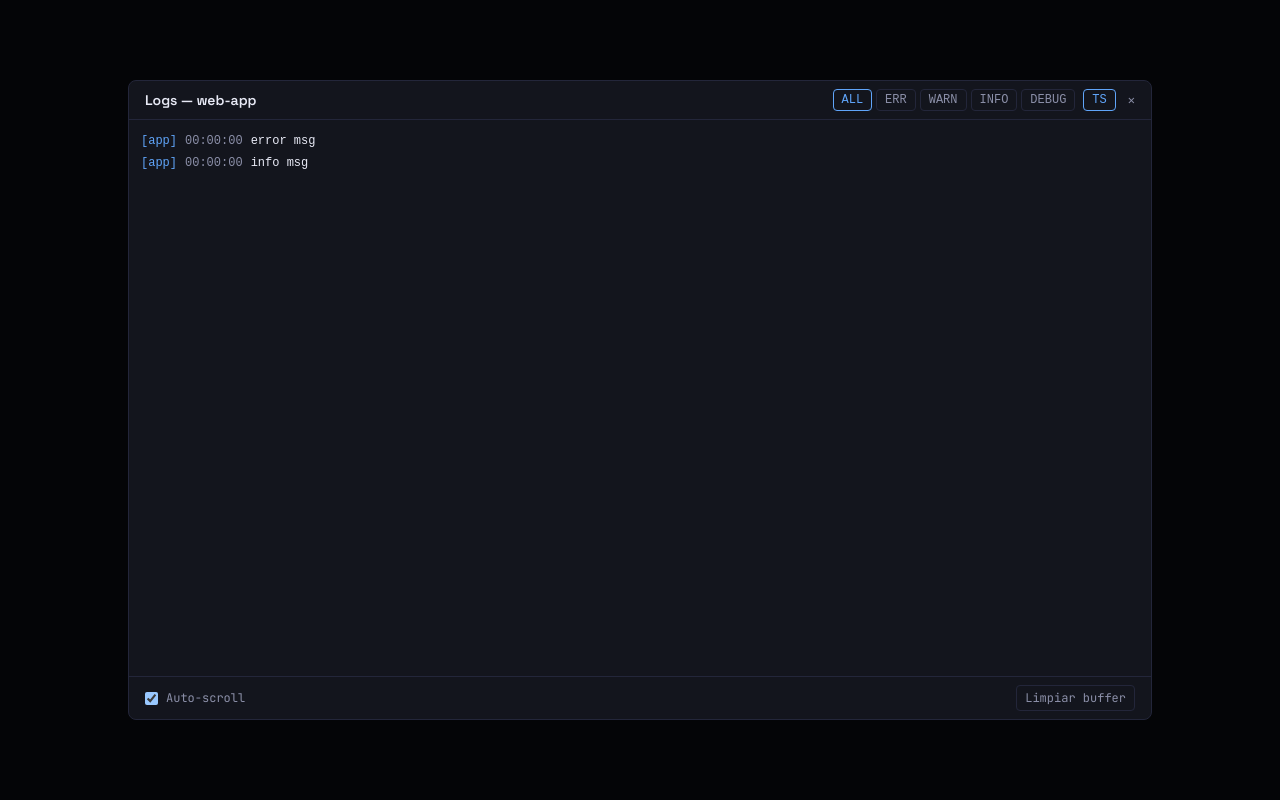
Test case: LogsModal — toggle timestamps › filtra por nivel las líneas JSON que Docker prefija con su marca de tiempo
Click the button with aria-label "Filtro ERR".
click(896, 100)  # box [876,89,916,111]
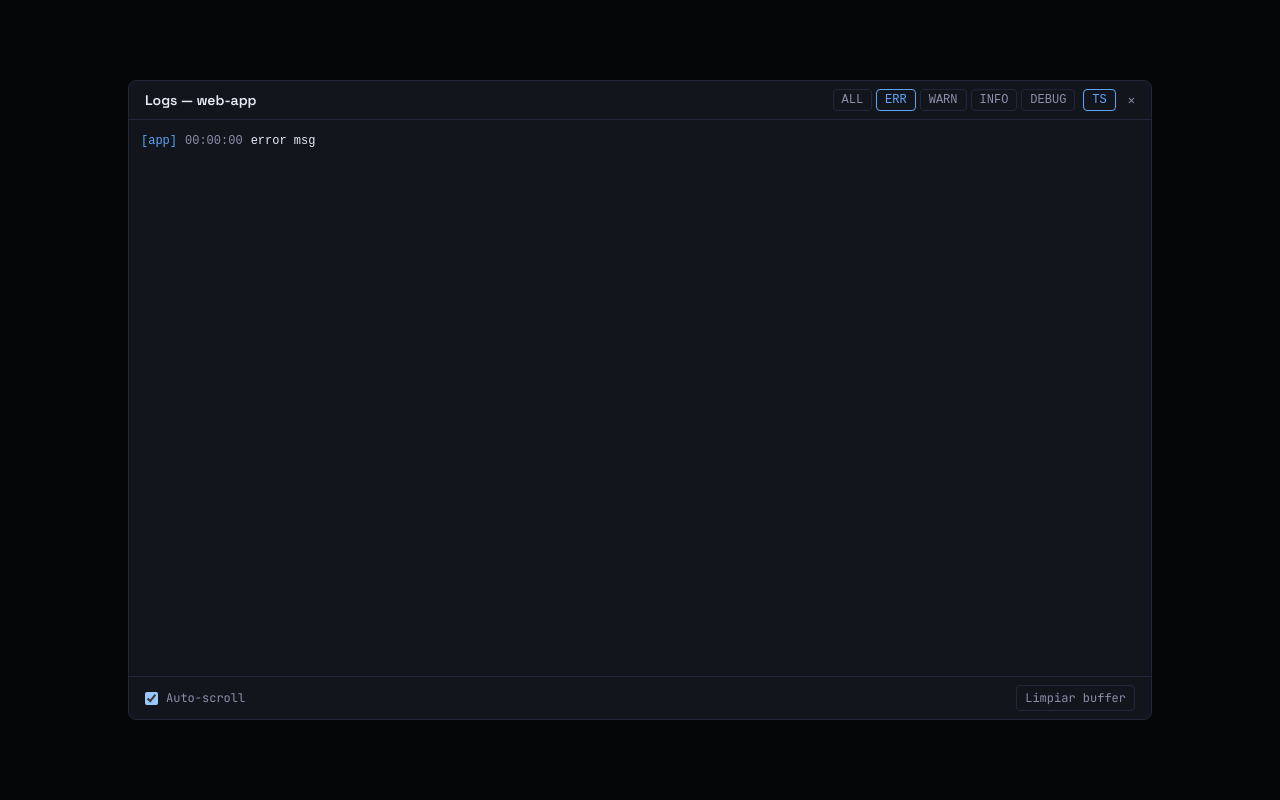
Check: the text "error msg" is shown, box [251,134,315,148]
Check: the text "info msg" is gone
